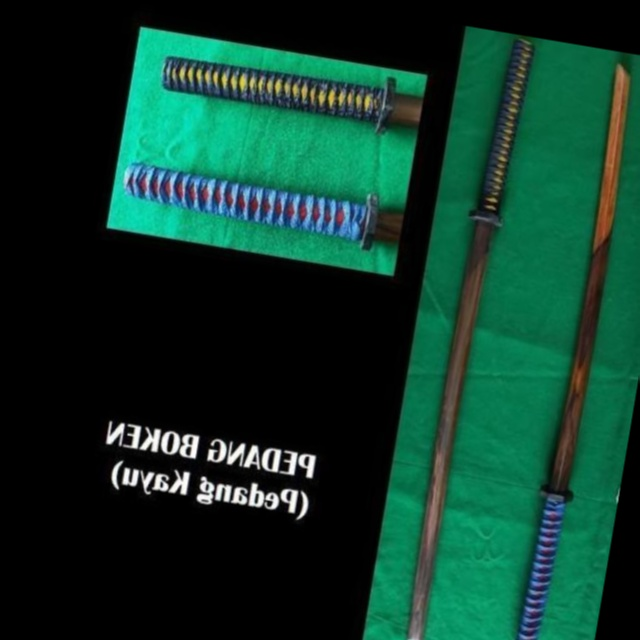Sharp-Object: (475, 44, 640, 640)
